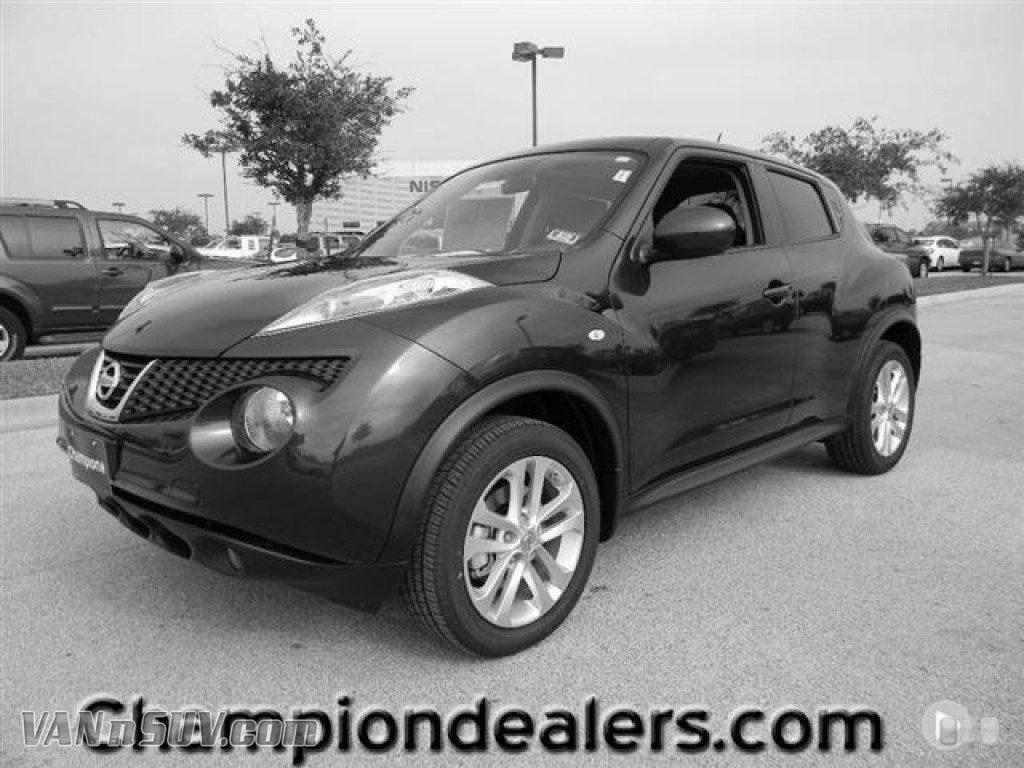car: (51, 137, 928, 658)
